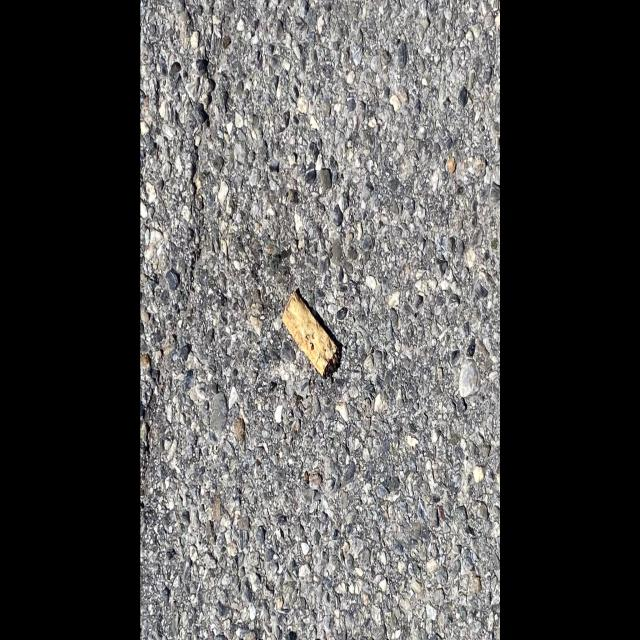other waste: (281, 290, 341, 380)
